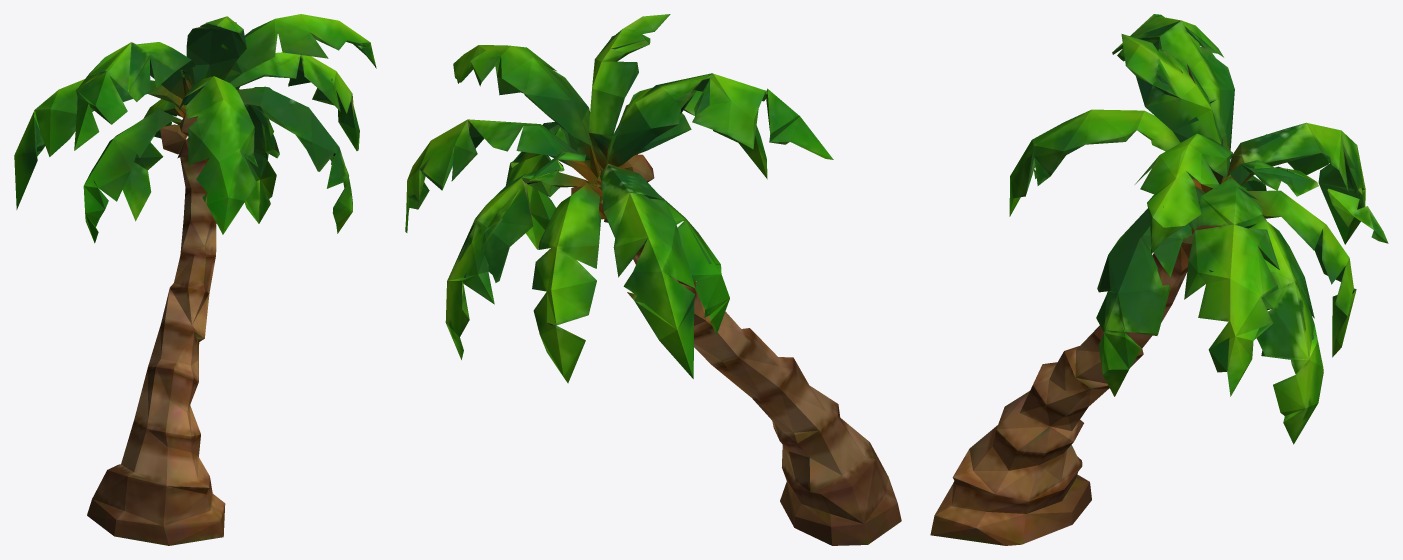
Rendered from palm-b.tex.glb.
The picture shows the model from 3 angles, left to right: view 1: azimuth 30°, elevation 25°; view 2: azimuth 150°, elevation 25°; view 3: azimuth 270°, elevation 25°; orthographic projection. The views are drawn at different scales.
Visible parts, largest first — view 1: palm-b; view 2: palm-b; view 3: palm-b.
Boxes of the visible parts, bbox=[...] form: palm-b: bbox=[14, 14, 376, 545]; palm-b: bbox=[405, 14, 901, 545]; palm-b: bbox=[930, 14, 1388, 545].
Size of the model in its own units: 6.04 by 7.49 by 5.72.
1 material, 1 textured.
